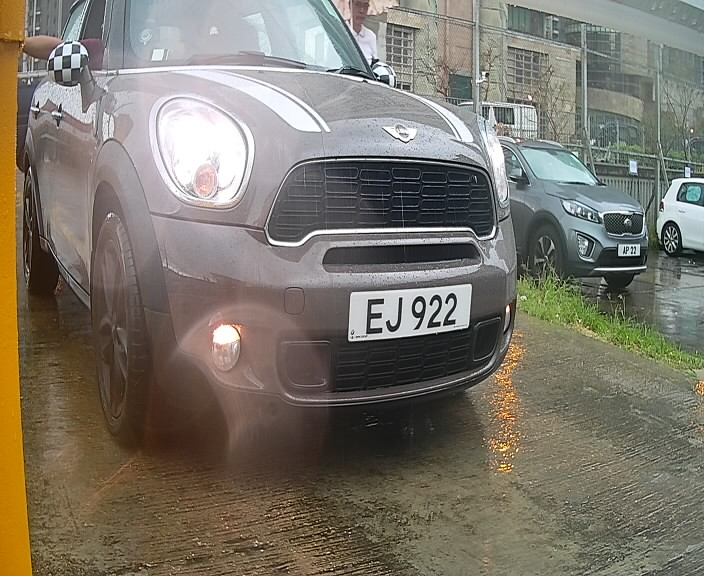Car: (23, 2, 523, 479)
License Plate: (339, 273, 484, 351)
